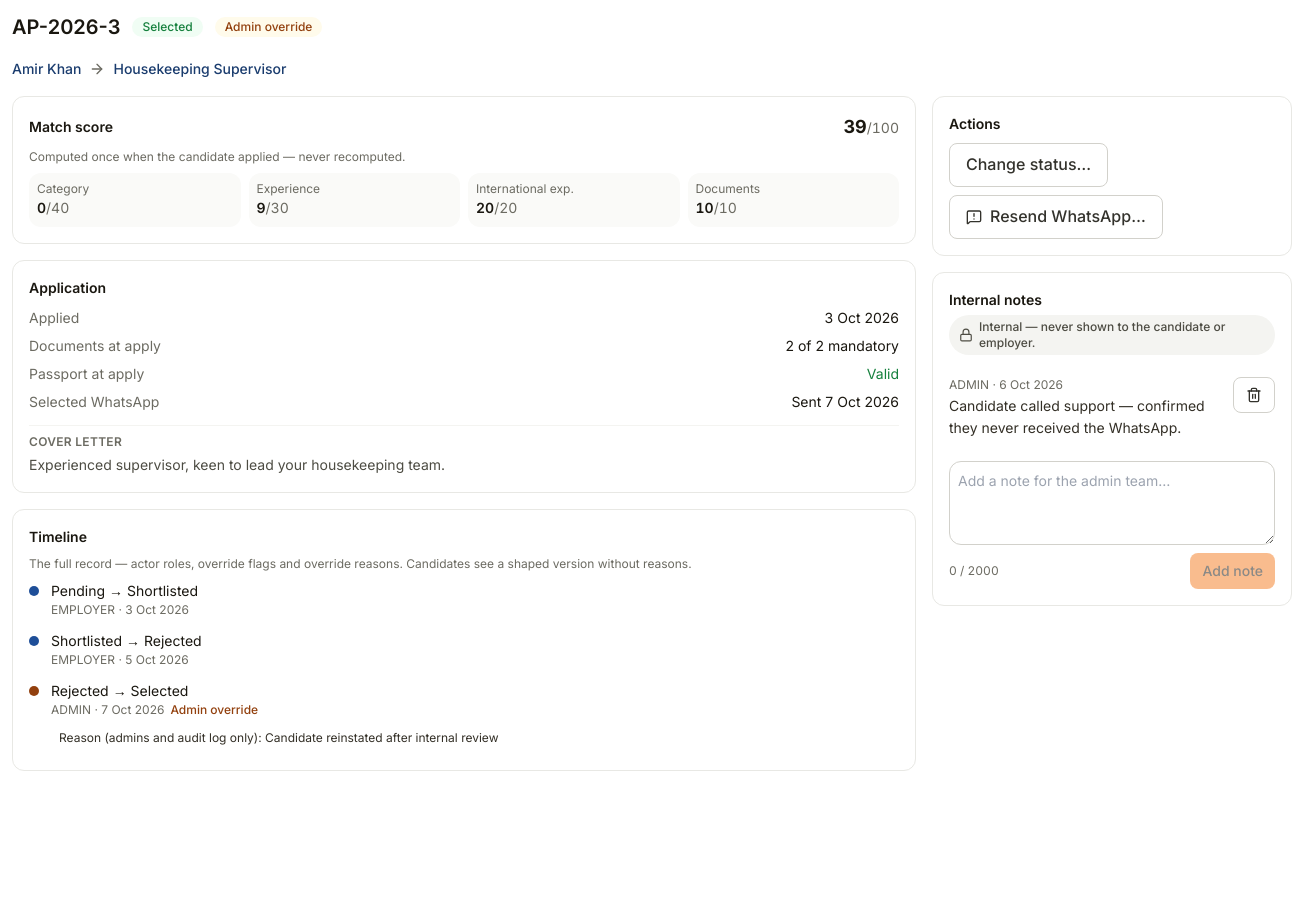
Test: NotesPanel › is labeled INTERNAL-ONLY and add/delete round-trip
The image size is (1292, 912).
Expected: the heading "AP-2026-3" is shown, x1=12 y1=12 x2=120 y2=42
Expected: the text "Internal — never shown to the candidate or employer." is shown, x1=949 y1=315 x2=1275 y2=355
# Add (with the live counter).
In the text box with placeholder "Add a note for the admin team…": point(1112, 503) x1=949 y1=461 x2=1275 y2=545, type "Called the candidate to confirm."
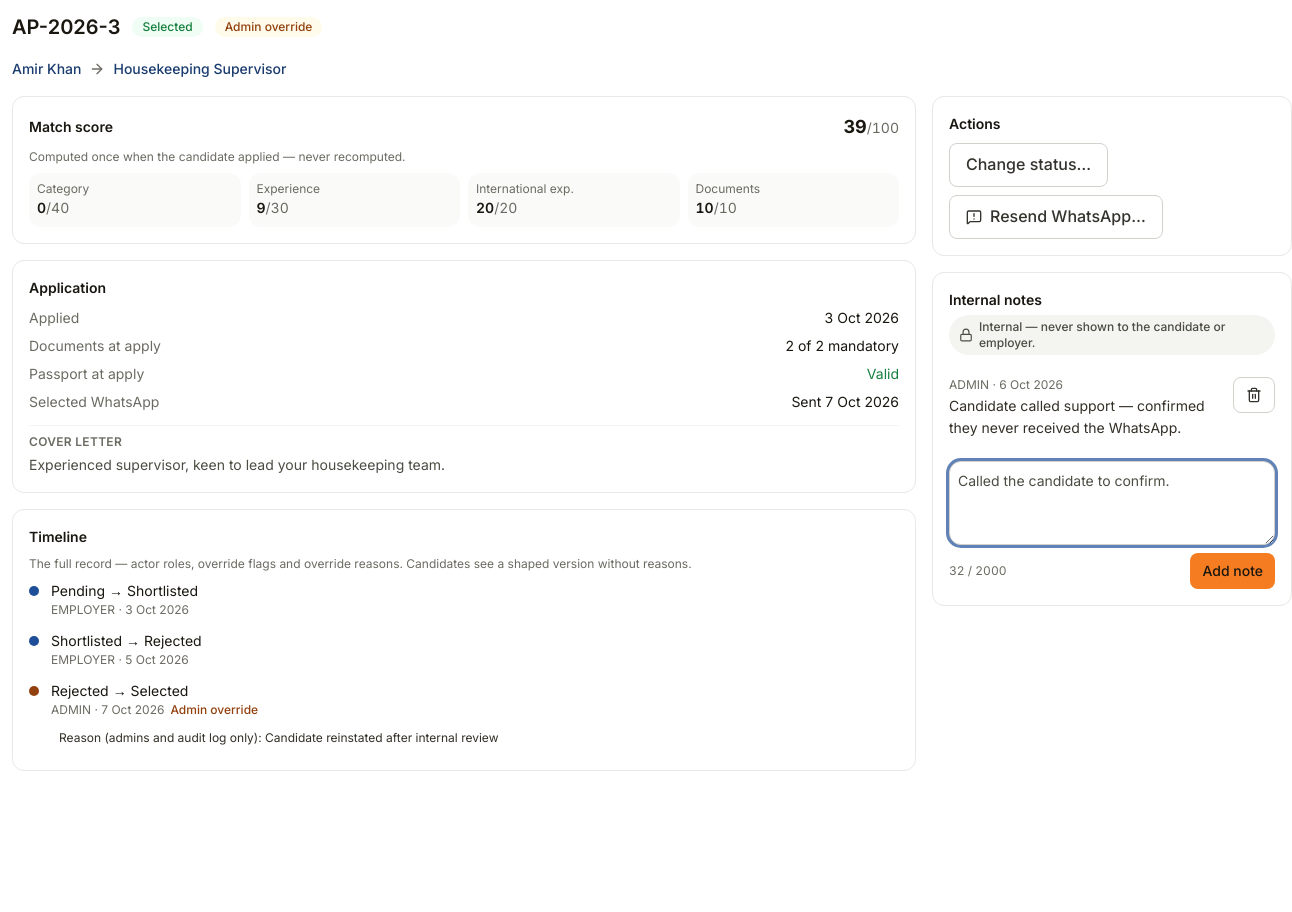
Result: the text "32 / 2000" is shown at x1=949 y1=563 x2=1006 y2=579
Click the button "Add note": point(1233, 571) x1=1190 y1=553 x2=1275 y2=589
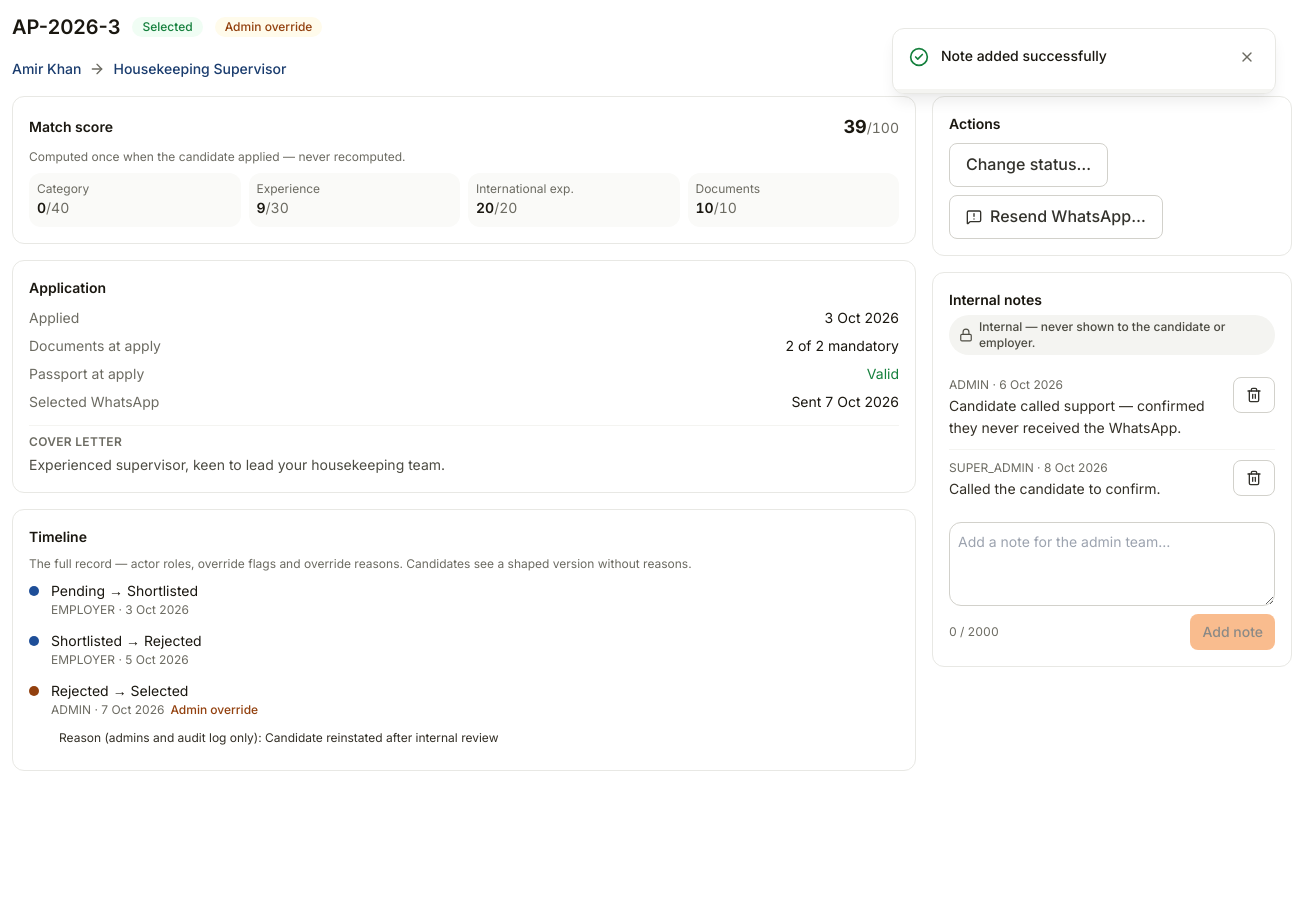
Result: the text "Called the candidate to confirm." is shown at x1=949 y1=478 x2=1160 y2=500
# Delete it again (SUPER_ADMIN may delete any note).
Click the button named "delete note" in the row of "SUPER_ADMIN · 8 Oct 2026": point(1254, 478) x1=1233 y1=460 x2=1275 y2=496
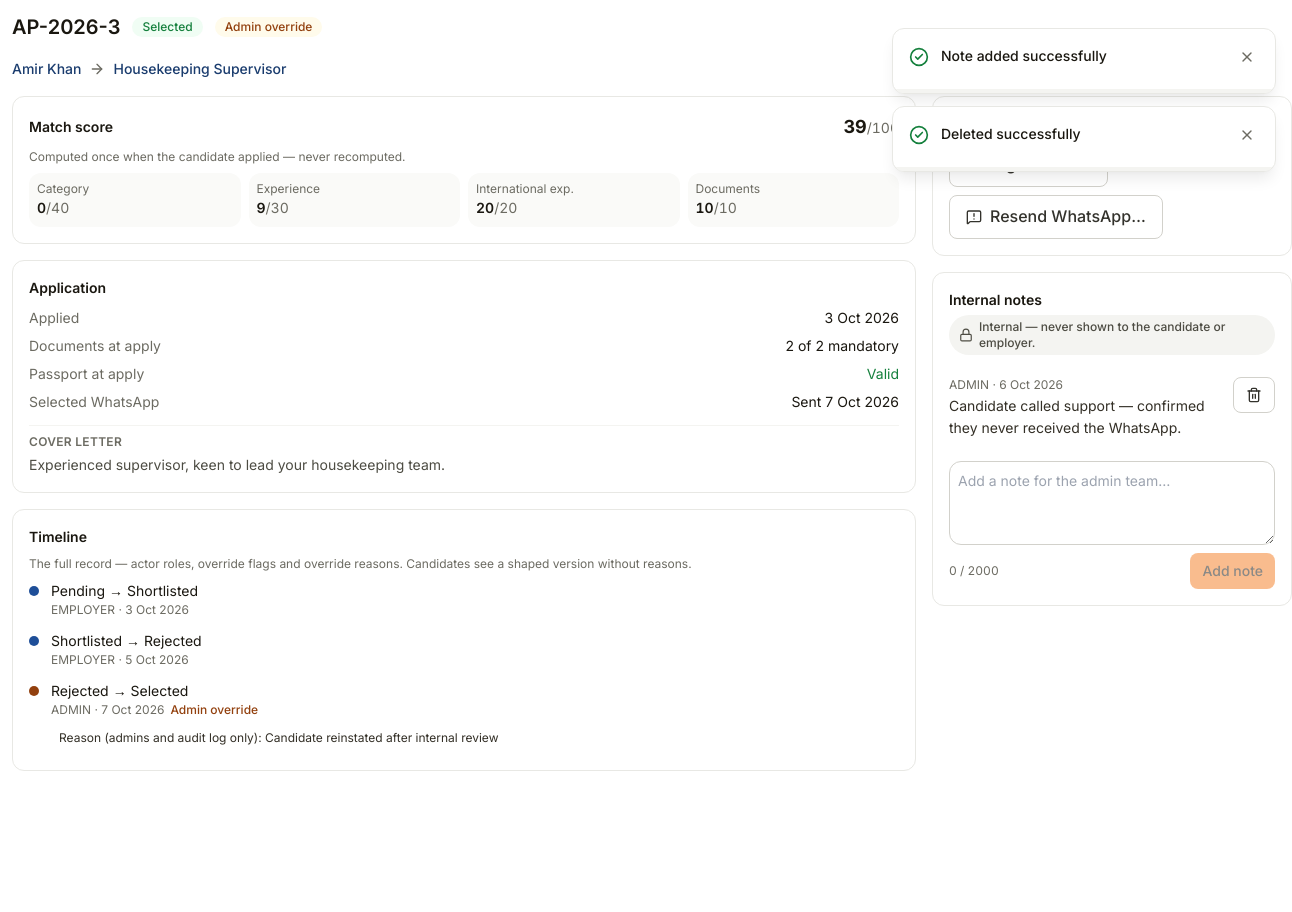
Result: the text "Called the candidate to confirm." is gone
